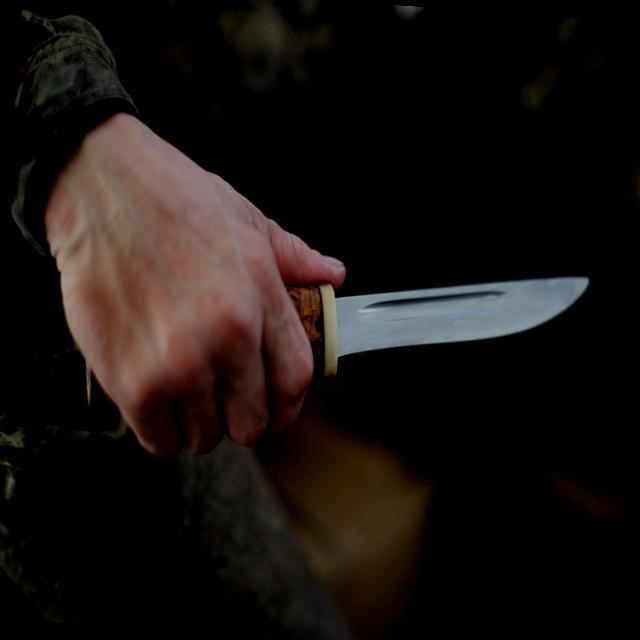knife: (182, 208, 604, 486)
